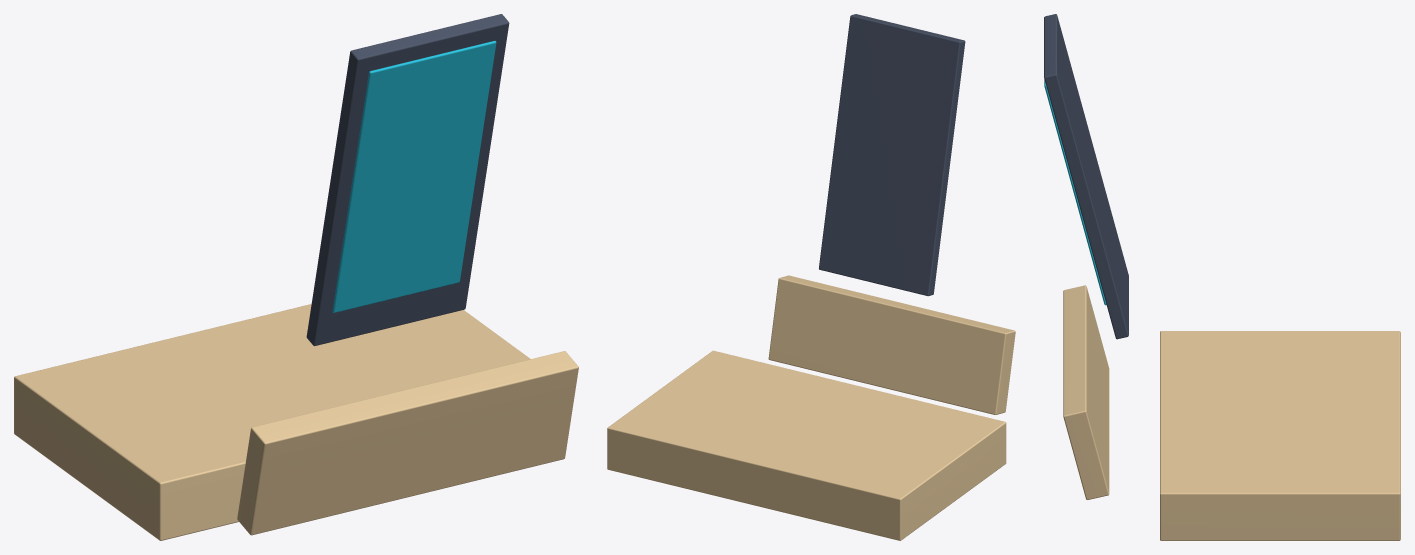
File: bamboo-stand.glb
3 renders of one model, left to right at view 1: azimuth 30°, elevation 25°; view 2: azimuth 150°, elevation 25°; view 3: azimuth 270°, elevation 25°, orthographic. The views are drawn at different scales.
Parts seen in each view (by area): view 1: BambooStand; view 2: BambooStand; view 3: BambooStand.
Boxes of the visible parts, x1=… form: BambooStand: x1=14, y1=14, x2=578, y2=540; BambooStand: x1=607, y1=14, x2=1015, y2=540; BambooStand: x1=1044, y1=14, x2=1400, y2=540.
Size of the model in its own units: 0.8 by 0.9521 by 0.74.
